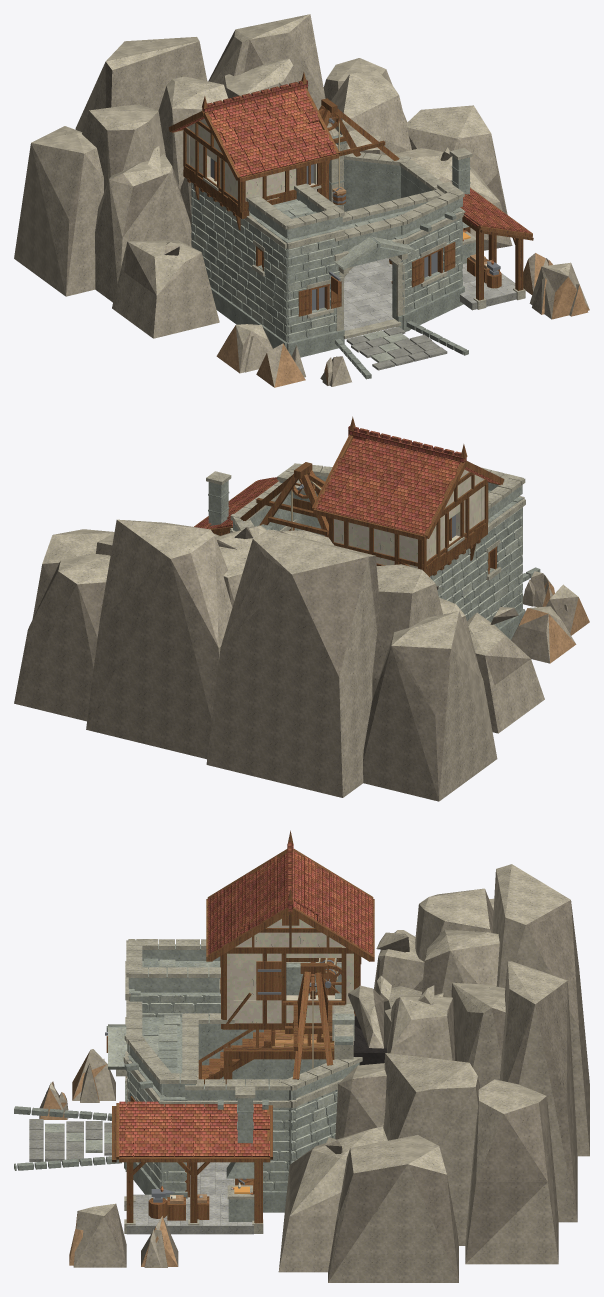
The model's file is quarry.glb.
3 renders of one model, top to bottom at view 1: azimuth 30°, elevation 25°; view 2: azimuth 150°, elevation 25°; view 3: azimuth 270°, elevation 25°, orthographic. The views are drawn at different scales.
Visible parts, largest first — view 1: Quarry_RockMain, Quarry_ShellMain, Quarry_RoofMain, Quarry_OreRockMain, Quarry_UpperShellMain, Quarry_FloorMainTiles, Quarry_FloorApproachMain, Quarry_FurnishingMain, Quarry_FloorLeanToMainTiles, Quarry_StepMain; view 2: Quarry_RockMain, Quarry_RoofMain, Quarry_ShellMain, Quarry_UpperShellMain, Quarry_OreRockMain; view 3: Quarry_RockMain, Quarry_RoofMain, Quarry_ShellMain, Quarry_UpperShellMain, Quarry_OreRockMain, Quarry_FurnishingMain, Quarry_FloorApproachMain, Quarry_FloorLeanToMainTiles, Quarry_FloorLeanToMain, Quarry_FloorMainTiles, Quarry_ServiceShaft_Mouth, Quarry_StairTreads (+1 smaller).
Boxes of the visible parts, left/top/right/bottom form: Quarry_RockMain: left=14, top=14, right=512, bottom=338; Quarry_ShellMain: left=191, top=135, right=533, bottom=357; Quarry_RoofMain: left=168, top=72, right=532, bottom=274; Quarry_OreRockMain: left=216, top=253, right=589, bottom=387; Quarry_UpperShellMain: left=183, top=127, right=325, bottom=230; Quarry_FloorMainTiles: left=344, top=258, right=393, bottom=330; Quarry_FloorApproachMain: left=346, top=326, right=447, bottom=370; Quarry_FurnishingMain: left=331, top=121, right=501, bottom=379; Quarry_FloorLeanToMainTiles: left=460, top=263, right=516, bottom=303; Quarry_StepMain: left=343, top=319, right=401, bottom=339; Quarry_RockMain: left=14, top=519, right=544, bottom=801; Quarry_RoofMain: left=194, top=416, right=525, bottom=540; Quarry_ShellMain: left=206, top=471, right=525, bottom=639; Quarry_UpperShellMain: left=329, top=479, right=488, bottom=577; Quarry_OreRockMain: left=511, top=571, right=589, bottom=663; Quarry_RockMain: left=278, top=864, right=589, bottom=1282; Quarry_RoofMain: left=106, top=830, right=374, bottom=1162; Quarry_ShellMain: left=105, top=961, right=354, bottom=1233; Quarry_UpperShellMain: left=219, top=947, right=361, bottom=1029; Quarry_OreRockMain: left=39, top=1049, right=178, bottom=1267; Quarry_FurnishingMain: left=14, top=990, right=313, bottom=1221; Quarry_FloorApproachMain: left=29, top=1119, right=111, bottom=1161; Quarry_FloorLeanToMainTiles: left=127, top=1194, right=253, bottom=1225; Quarry_FloorLeanToMain: left=126, top=1225, right=253, bottom=1234; Quarry_FloorMainTiles: left=190, top=1162, right=234, bottom=1194; Quarry_ServiceShaft_Mouth: left=353, top=1016, right=386, bottom=1065; Quarry_StairTreads: left=198, top=1029, right=271, bottom=1079.
Size of the model in its own units: 18 by 9.37 by 18.47.
Materials: 32 (27 with a texture image).
